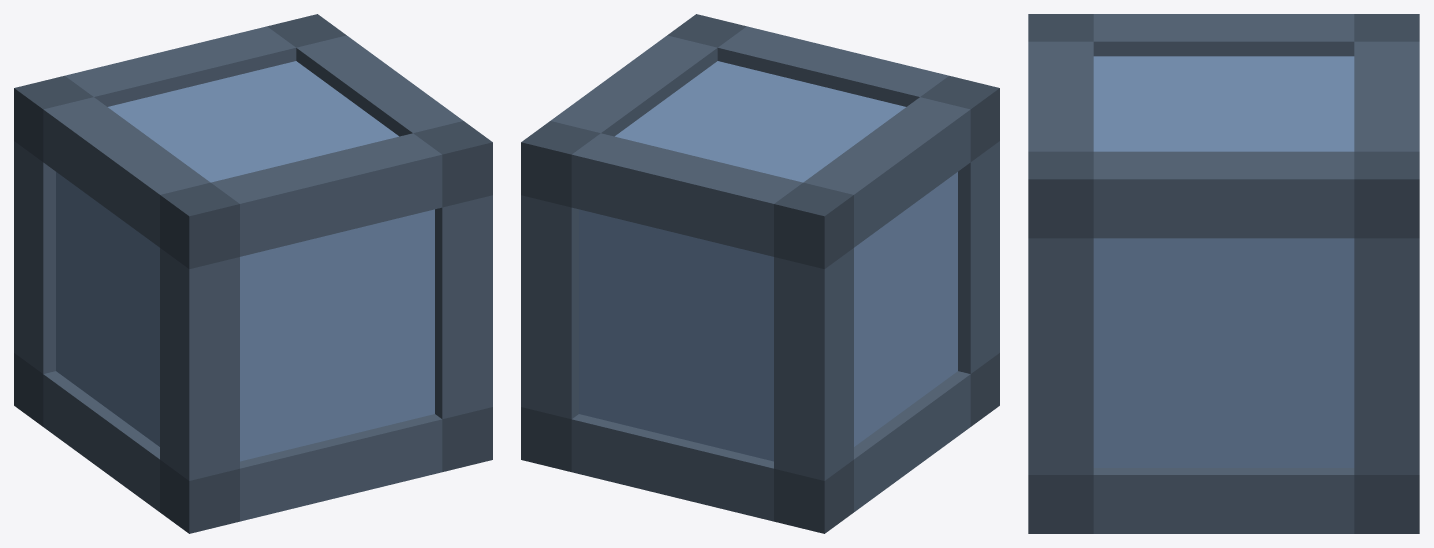
The model's file is crate.fbx.
3 renders of one model, left to right at view 1: azimuth 30°, elevation 25°; view 2: azimuth 150°, elevation 25°; view 3: azimuth 270°, elevation 25°, orthographic. The views are drawn at different scales.
Visible parts, largest first — view 1: Box; view 2: Box; view 3: Box.
Part boxes in pixels (x1,y1,x2,y2): Box: (14, 14, 492, 533); Box: (521, 14, 999, 533); Box: (1028, 14, 1419, 533).
Bounding box in the file's own units: 120 × 120 × 120.
